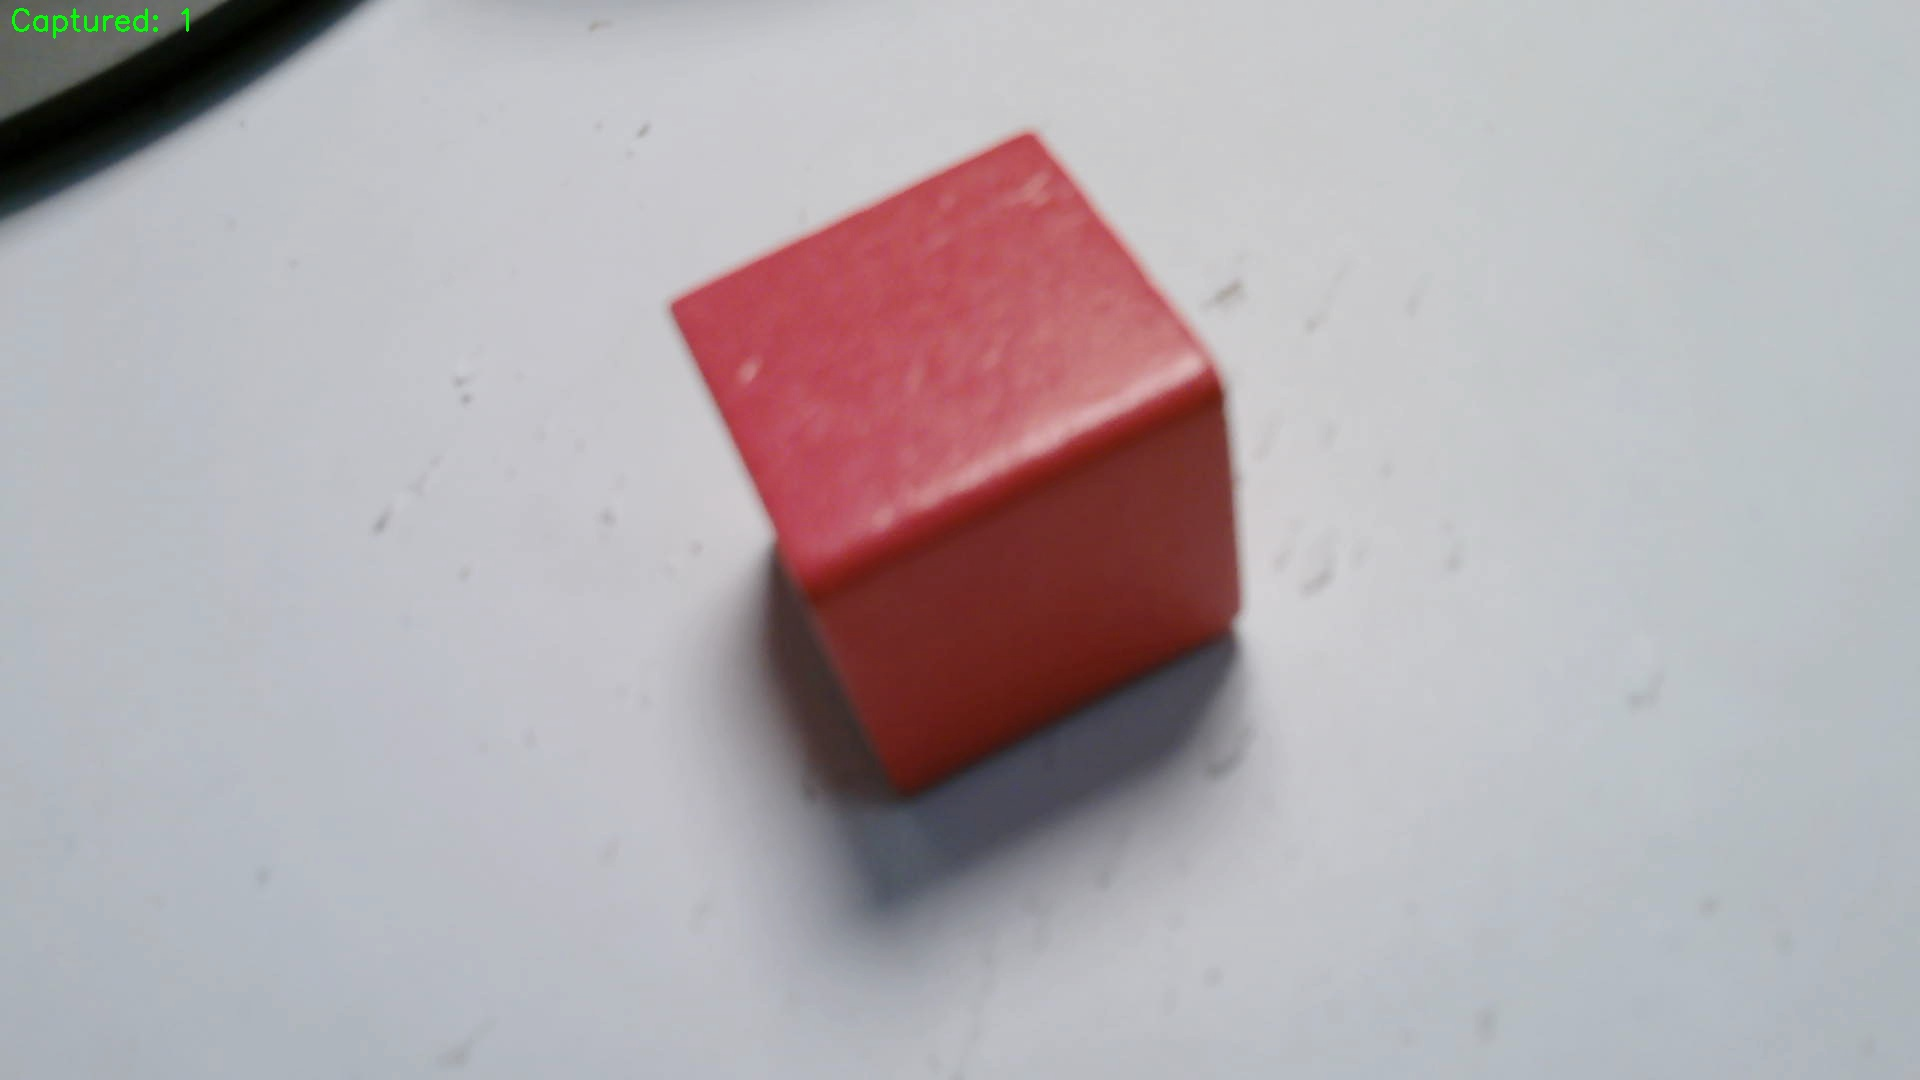red: (671, 133, 1241, 800)
